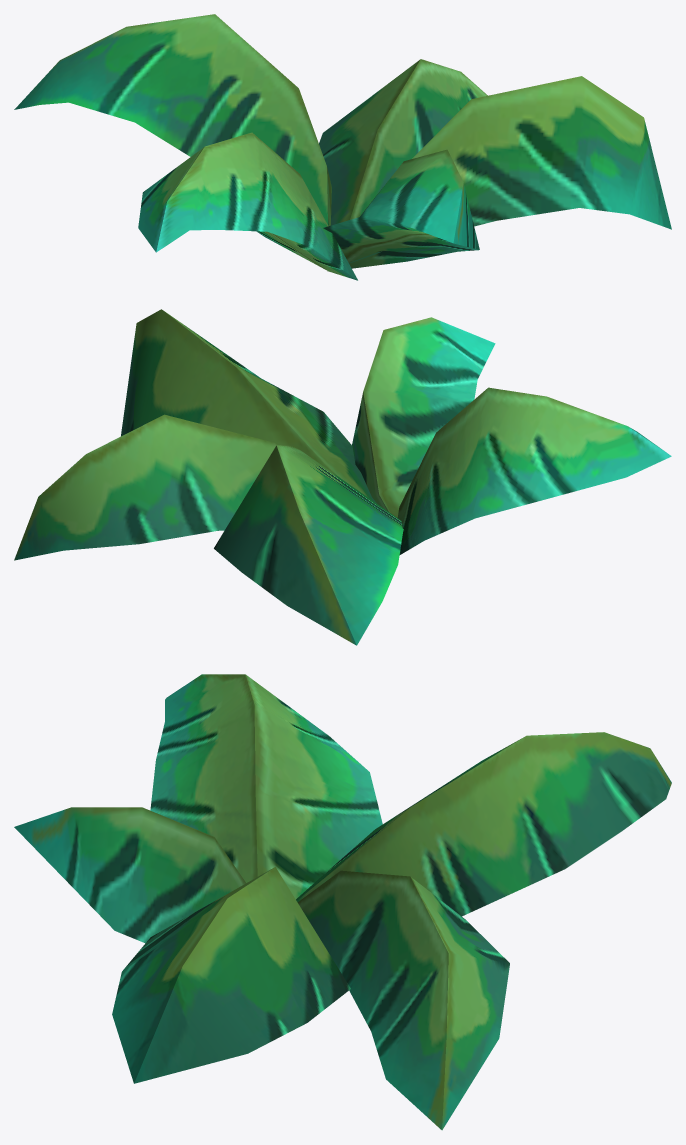
File: IslandIglooLotJunglePlant.fbx
3 views of the same model, one above another, from view 1: azimuth 30°, elevation 25°; view 2: azimuth 150°, elevation 25°; view 3: azimuth 270°, elevation 25° (orthographic). The views are drawn at different scales.
Parts seen in each view (by area): view 1: IslandIglooLotJunglePlant; view 2: IslandIglooLotJunglePlant; view 3: IslandIglooLotJunglePlant.
Boxes of the visible parts, box(x1,y1,x2,y2) form: IslandIglooLotJunglePlant: box(14, 14, 671, 280); IslandIglooLotJunglePlant: box(14, 309, 671, 645); IslandIglooLotJunglePlant: box(14, 674, 671, 1130).
Bounding box in the file's own units: 117 × 45.6 × 115.
